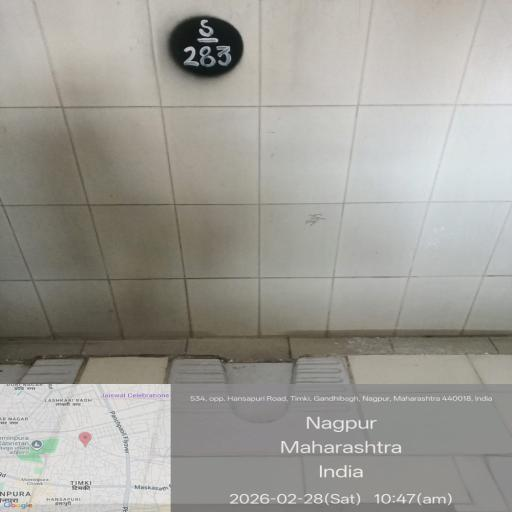clean_floor: (77, 114, 512, 348)
clean_indian: (148, 350, 400, 457)
partial_dirty_floor: (34, 320, 512, 512)
